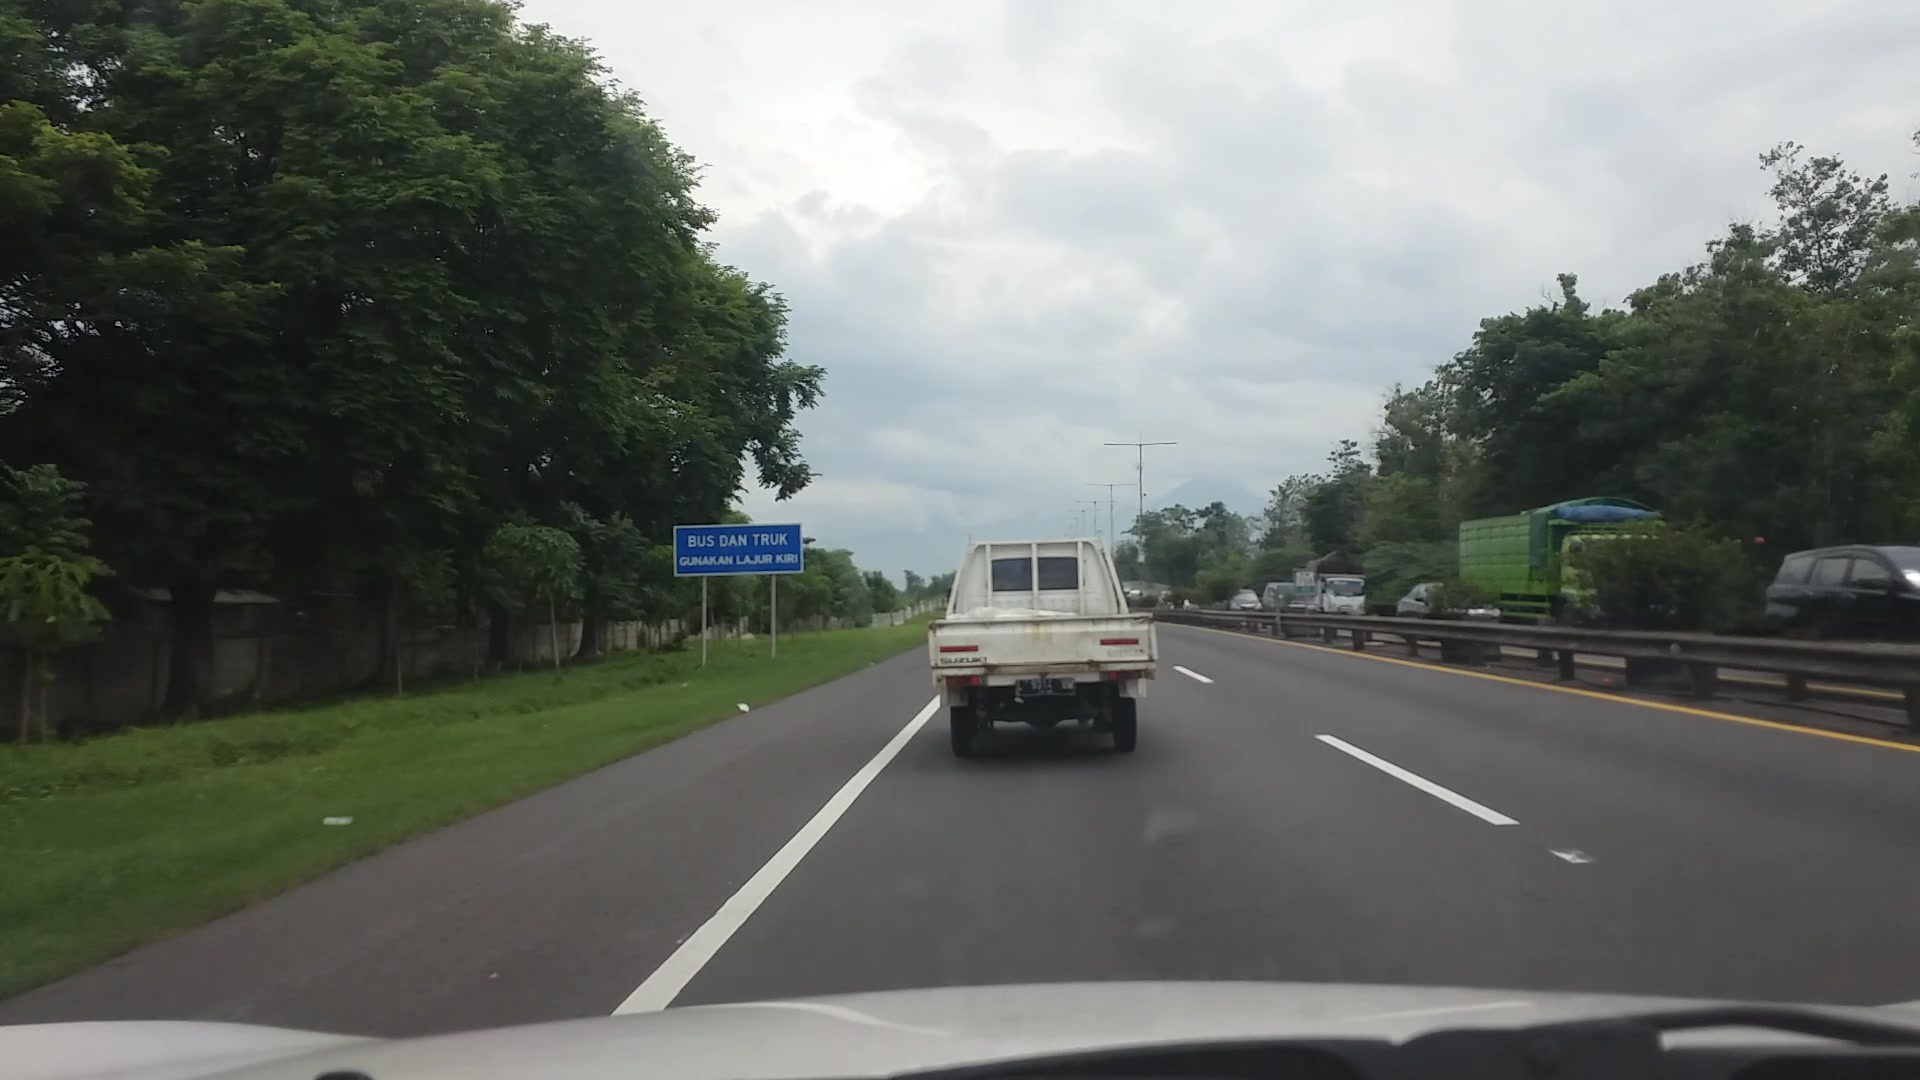plate_positive: (1015, 676, 1073, 696)
